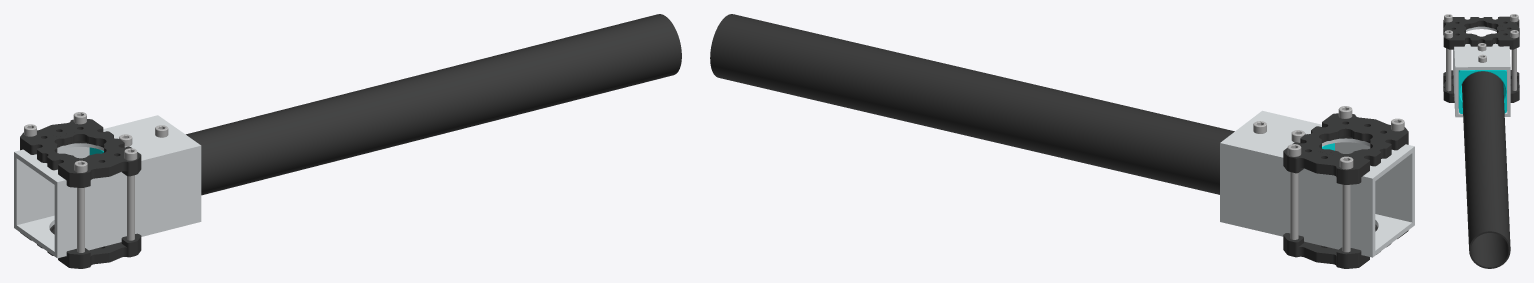
3 renders of one model, left to right at view 1: azimuth 30°, elevation 25°; view 2: azimuth 150°, elevation 25°; view 3: azimuth 270°, elevation 25°, orthographic. The views are drawn at different scales.
Visible parts, largest first — view 1: NAUO3, NAUO13, NAUO16, NAUO15, NAUO11, NAUO10; view 2: NAUO3, NAUO13, NAUO16, NAUO15, NAUO8, NAUO9; view 3: NAUO3, NAUO16, NAUO13, NAUO14, NAUO15, NAUO11, NAUO9, NAUO8, NAUO5, NAUO10, NAUO4.
Part boxes in pixels (left/top/right/bottom): NAUO3: left=186, top=14, right=681, bottom=195; NAUO13: left=14, top=115, right=201, bottom=258; NAUO16: left=20, top=119, right=141, bottom=187; NAUO15: left=20, top=224, right=141, bottom=268; NAUO11: left=124, top=148, right=137, bottom=240; NAUO10: left=74, top=160, right=87, bottom=252; NAUO3: left=710, top=14, right=1234, bottom=194; NAUO13: left=1220, top=110, right=1414, bottom=257; NAUO16: left=1283, top=113, right=1408, bottom=184; NAUO15: left=1283, top=224, right=1408, bottom=268; NAUO8: left=1339, top=156, right=1353, bottom=252; NAUO9: left=1287, top=144, right=1301, bottom=239; NAUO3: left=1462, top=71, right=1510, bottom=268; NAUO16: left=1443, top=16, right=1519, bottom=49; NAUO13: left=1453, top=26, right=1510, bottom=117; NAUO14: left=1458, top=70, right=1506, bottom=113; NAUO15: left=1443, top=70, right=1519, bottom=102; NAUO11: left=1444, top=30, right=1452, bottom=91; NAUO9: left=1510, top=30, right=1518, bottom=90; NAUO8: left=1510, top=14, right=1518, bottom=73; NAUO5: left=1477, top=43, right=1486, bottom=51; NAUO10: left=1444, top=14, right=1452, bottom=22; NAUO4: left=1478, top=54, right=1486, bottom=62.
Size of the model in its own units: 0.4452 by 0.0683 by 0.0701.
